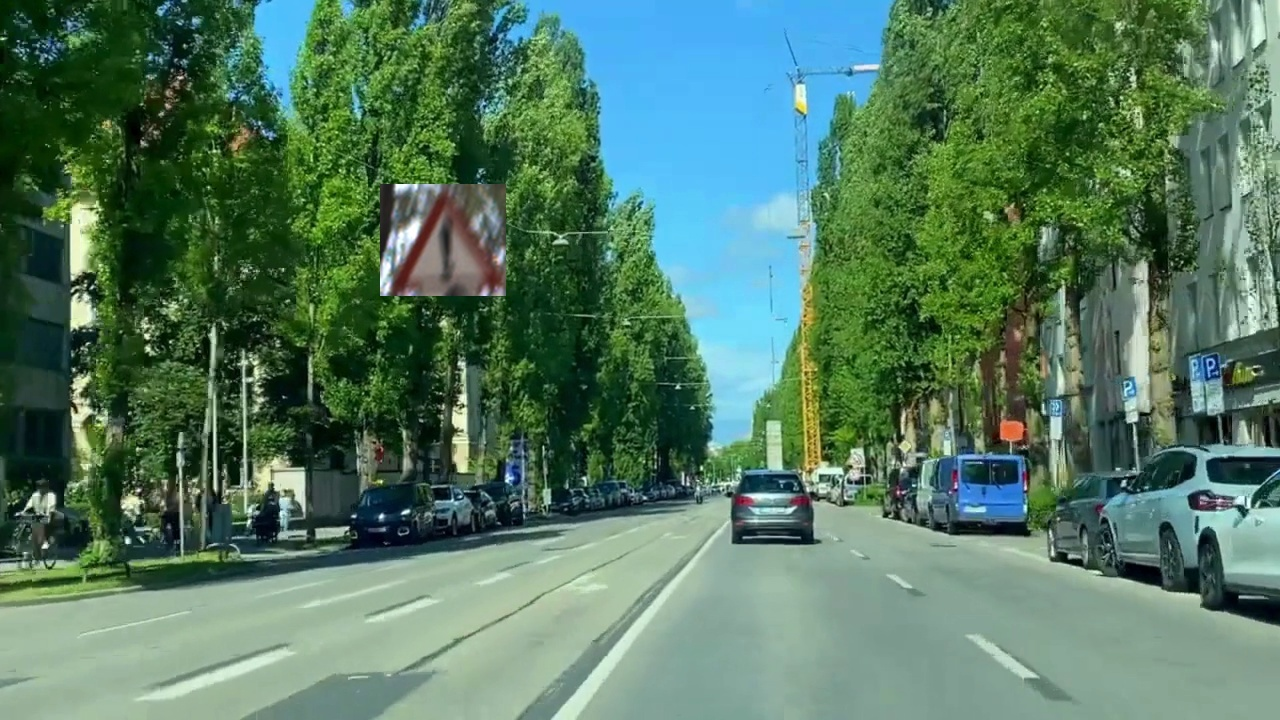Caution: (380, 184, 506, 296)
